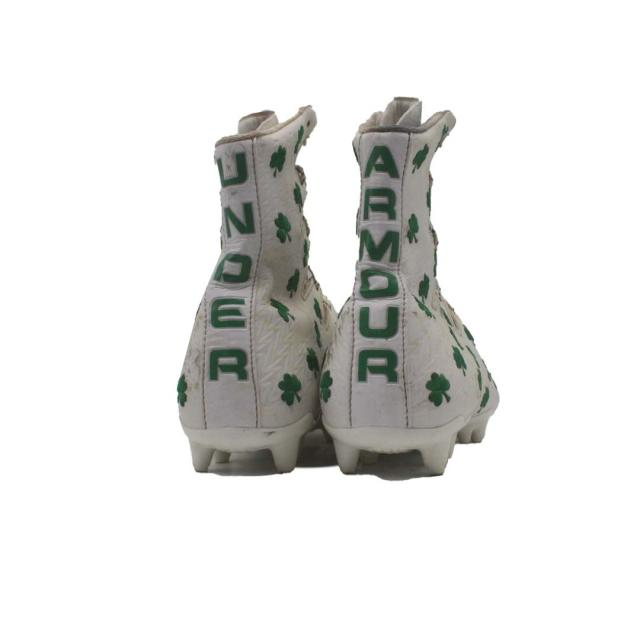heel: (317, 113, 474, 427), (177, 106, 316, 423)
midsole: (323, 413, 481, 485), (182, 409, 319, 476)
